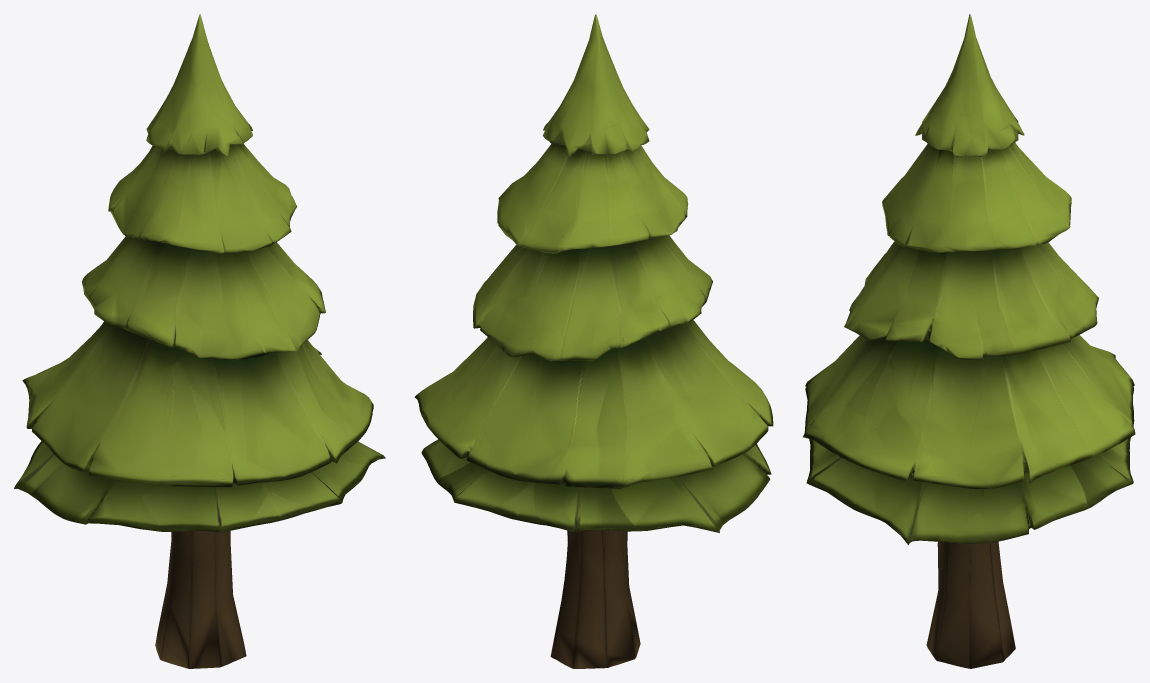
The model's file is Meshy_AI_Origami_Christmas_Tre_0513081003_texture.fbx.
3 renders of one model, left to right at view 1: azimuth 30°, elevation 25°; view 2: azimuth 150°, elevation 25°; view 3: azimuth 270°, elevation 25°, orthographic.
Parts seen in each view (by area): view 1: Mesh_0; view 2: Mesh_0; view 3: Mesh_0.
Part boxes in pixels (x1=…): Mesh_0: x1=14, y1=14, x2=385, y2=668; Mesh_0: x1=414, y1=14, x2=773, y2=668; Mesh_0: x1=803, y1=14, x2=1135, y2=668.
Bounding box in the file's own units: 96.73 × 191 × 90.62.
1 material, 1 textured.
